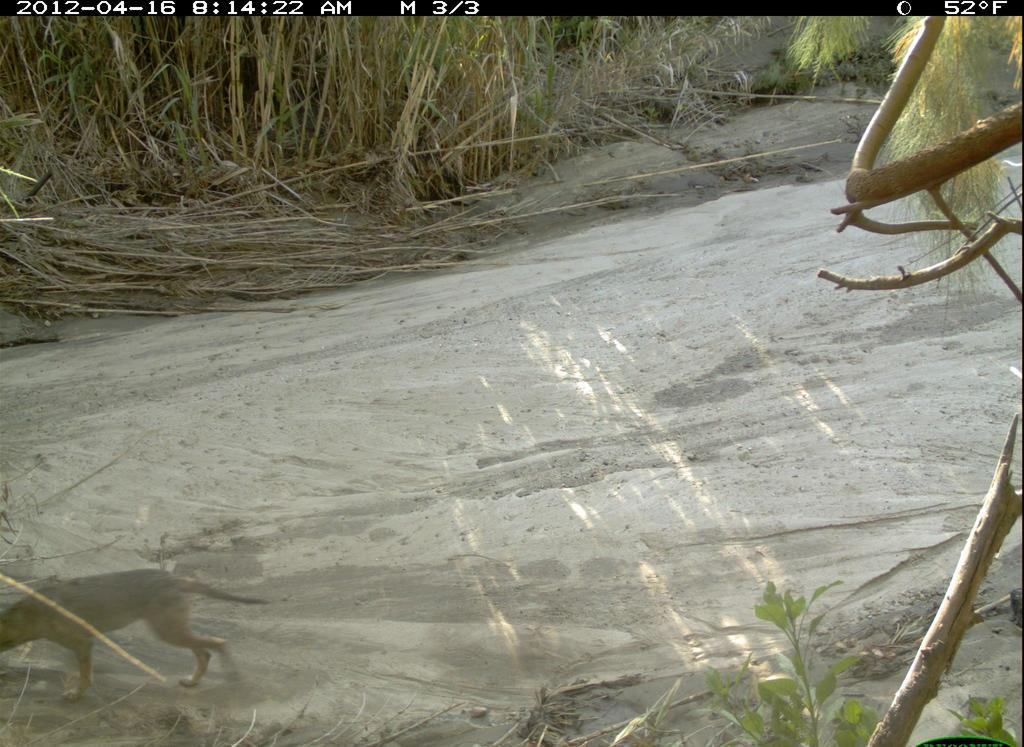coyote: (1, 565, 276, 695)
